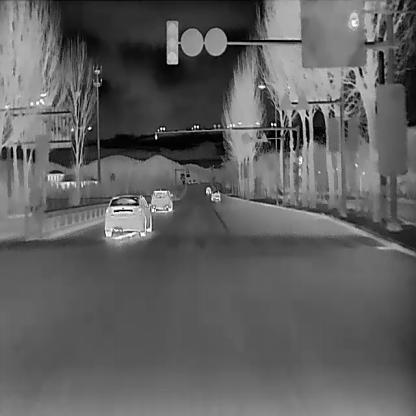car: (103, 192, 152, 235), (149, 187, 173, 211), (209, 189, 220, 201), (204, 186, 211, 195)
